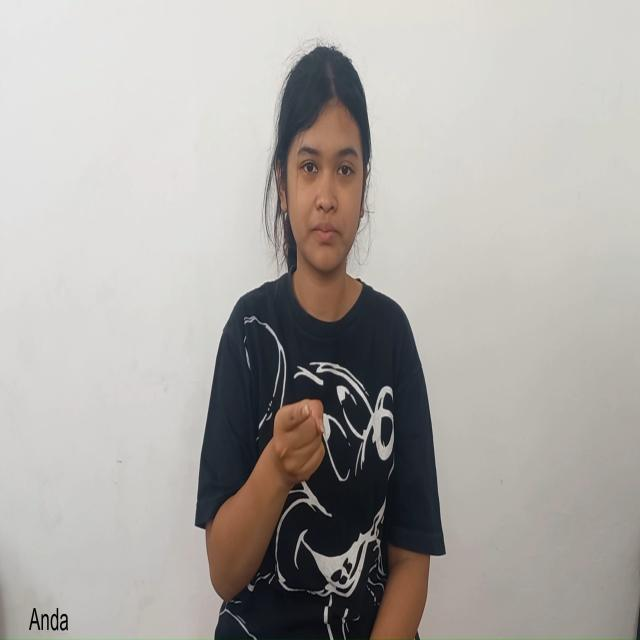Anda -BISINDO-: (238, 324, 374, 556)
